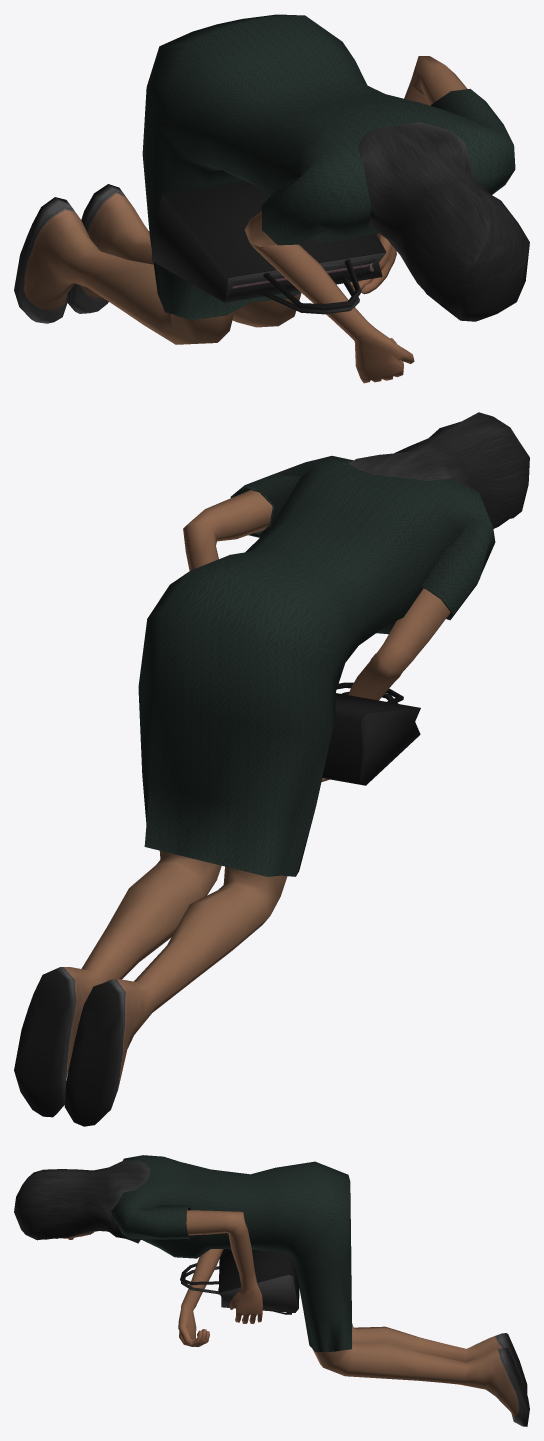
The model's file is FemaleVisitorSit.obj.
The picture shows the model from 3 angles, top to bottom: view 1: azimuth 30°, elevation 25°; view 2: azimuth 150°, elevation 25°; view 3: azimuth 270°, elevation 25°; orthographic projection. The views are drawn at different scales.
Visible parts, largest first — view 1: FemaleVisitor.002; view 2: FemaleVisitor.002; view 3: FemaleVisitor.002.
Boxes of the visible parts, box(x1,y1,x2,y2) form: FemaleVisitor.002: box(14, 14, 529, 383); FemaleVisitor.002: box(14, 412, 529, 1126); FemaleVisitor.002: box(14, 1155, 529, 1426).
Size of the model in its own units: 0.3836 by 0.6633 by 1.24.
Materials: 2 (2 with a texture image).
